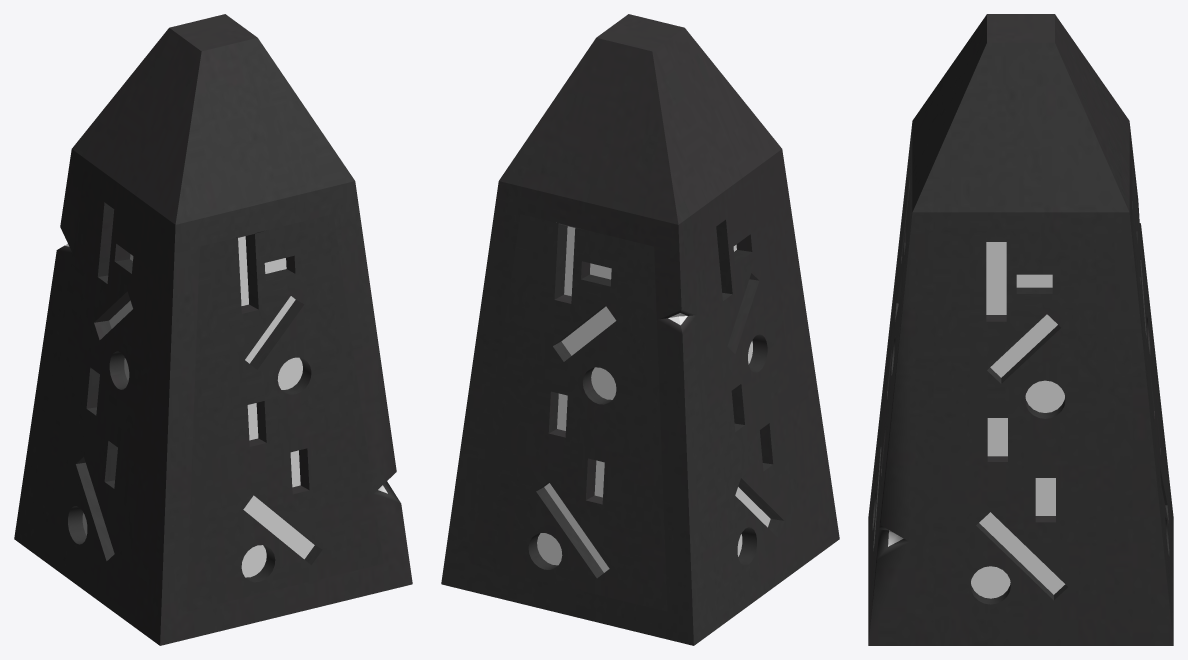
File: ficha1imprimir.fbx
3 views of the same model, side by side, from view 1: azimuth 30°, elevation 25°; view 2: azimuth 150°, elevation 25°; view 3: azimuth 270°, elevation 25° (orthographic). The views are drawn at different scales.
Visible parts, largest first — view 1: pCube51; view 2: pCube51; view 3: pCube51.
Boxes of the visible parts, <box> form: pCube51: <box>14,14,412,645</box>; pCube51: <box>441,14,839,645</box>; pCube51: <box>868,14,1173,645</box>.
Bounding box in the file's own units: 3 × 6 × 3.
2 materials, 1 textured.
